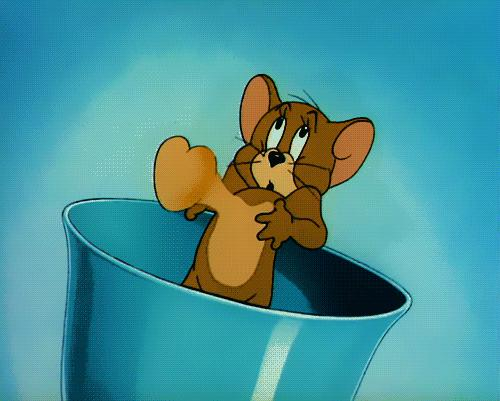jerry: (152, 73, 377, 311)
